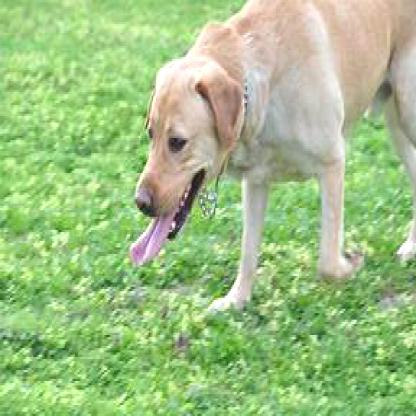dog: (127, 0, 415, 318)
